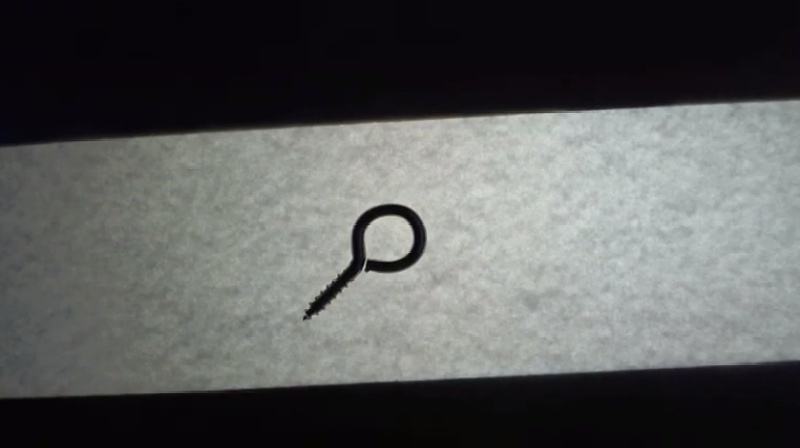O001: (295, 201, 432, 328)
